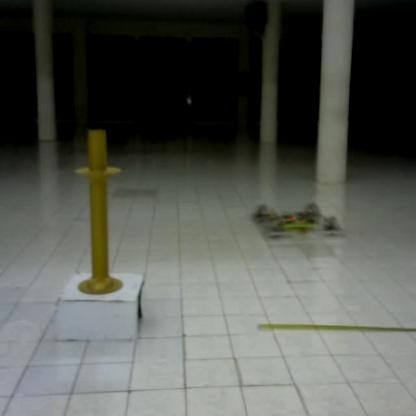pole: (69, 119, 129, 303)
